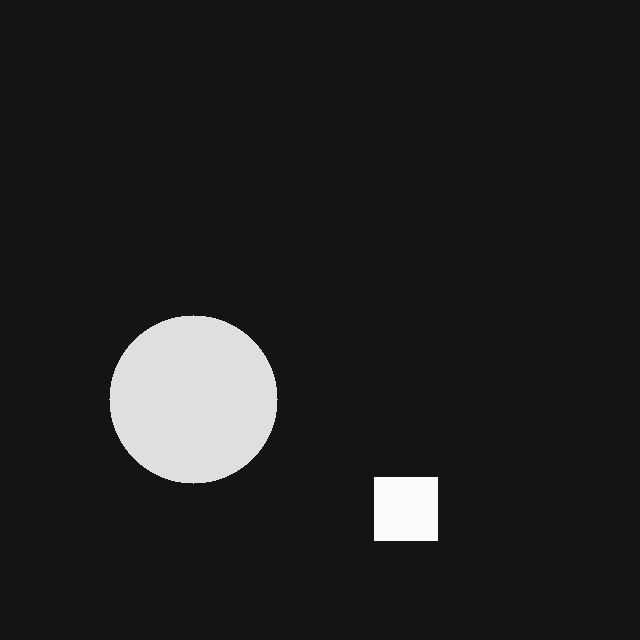circle: (109, 315, 277, 483)
square: (374, 477, 437, 540)
